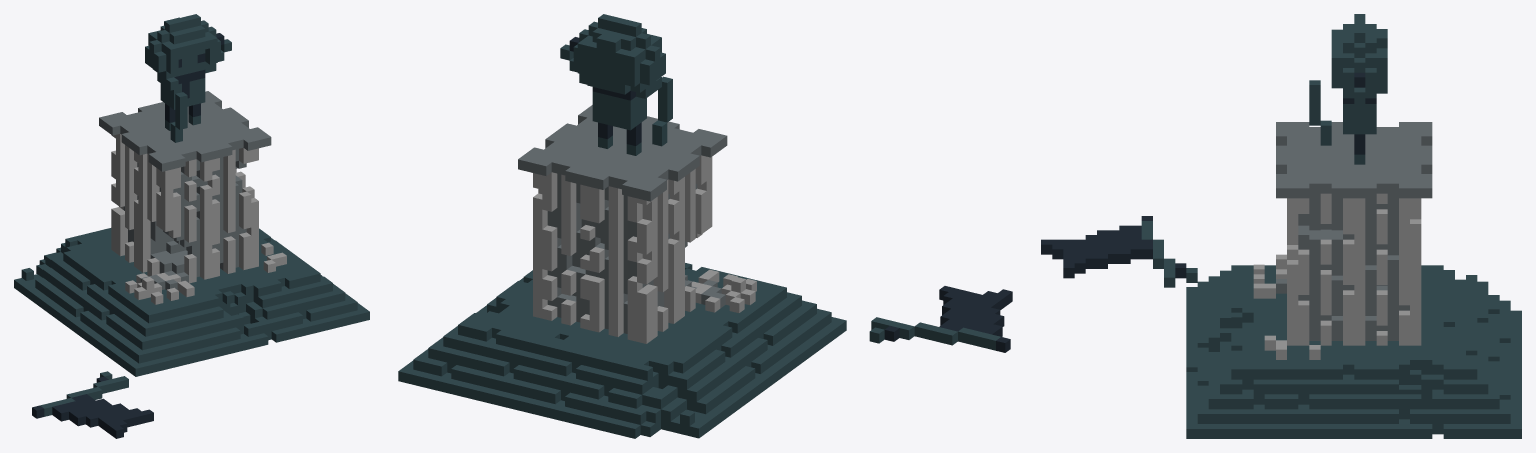
File: statue_damaged.obj
3 renders of one model, left to right at view 1: azimuth 30°, elevation 25°; view 2: azimuth 150°, elevation 25°; view 3: azimuth 270°, elevation 25°, orthographic. The views are drawn at different scales.
Bounding box in the file's own units: 4.5 × 3.4 × 4.3.
Materials: 1 (1 with a texture image).
